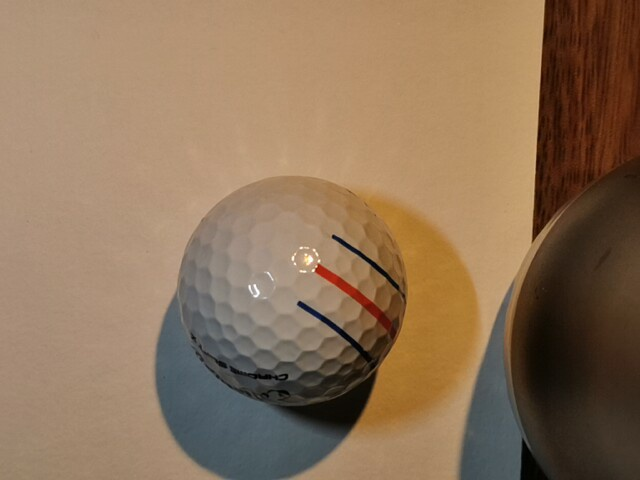Ball: (178, 175, 407, 407)
